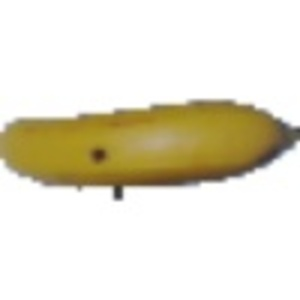banana: (3, 94, 295, 187)
